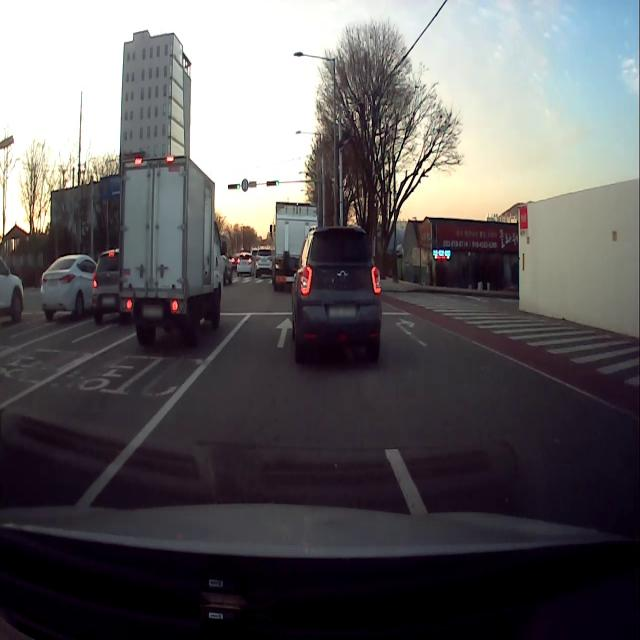Green Light: (275, 180, 279, 186), (237, 183, 240, 190)
